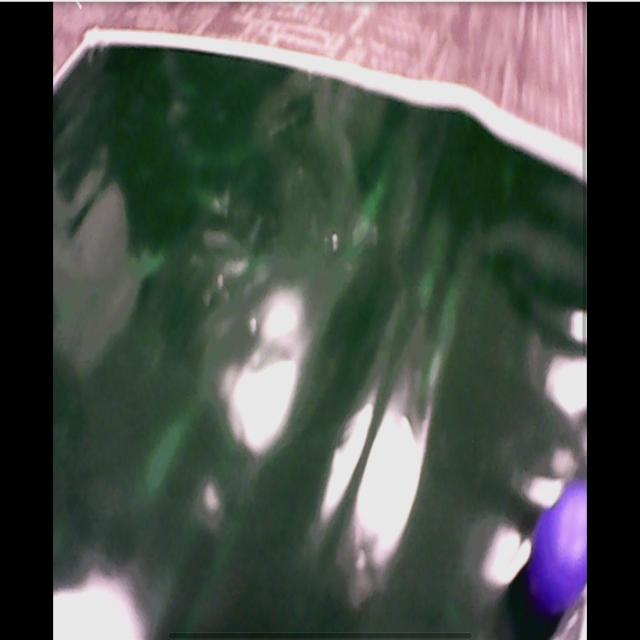ball: (529, 486, 589, 608)
